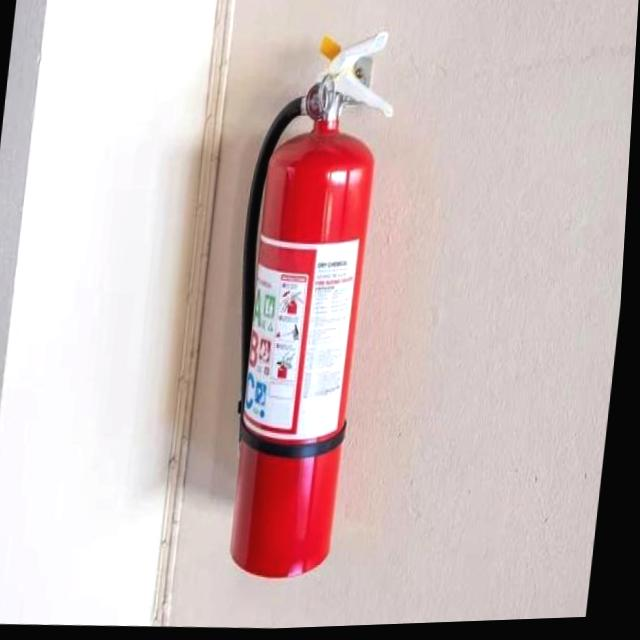FireExtinguisher: (210, 23, 405, 589)
